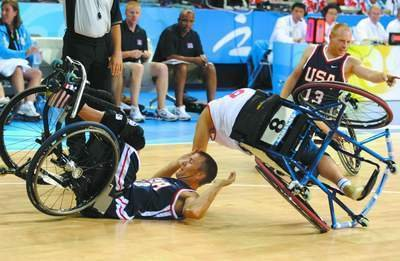fall: (34, 71, 237, 224)
